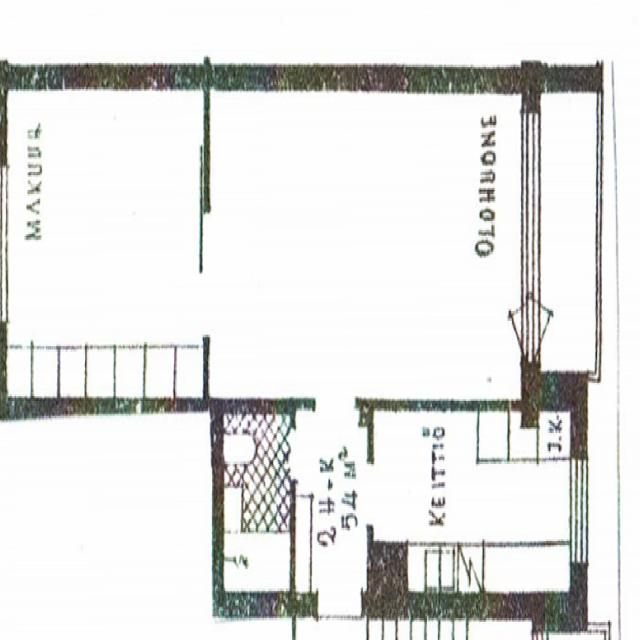door: (487, 296, 540, 360), (523, 296, 576, 360)
